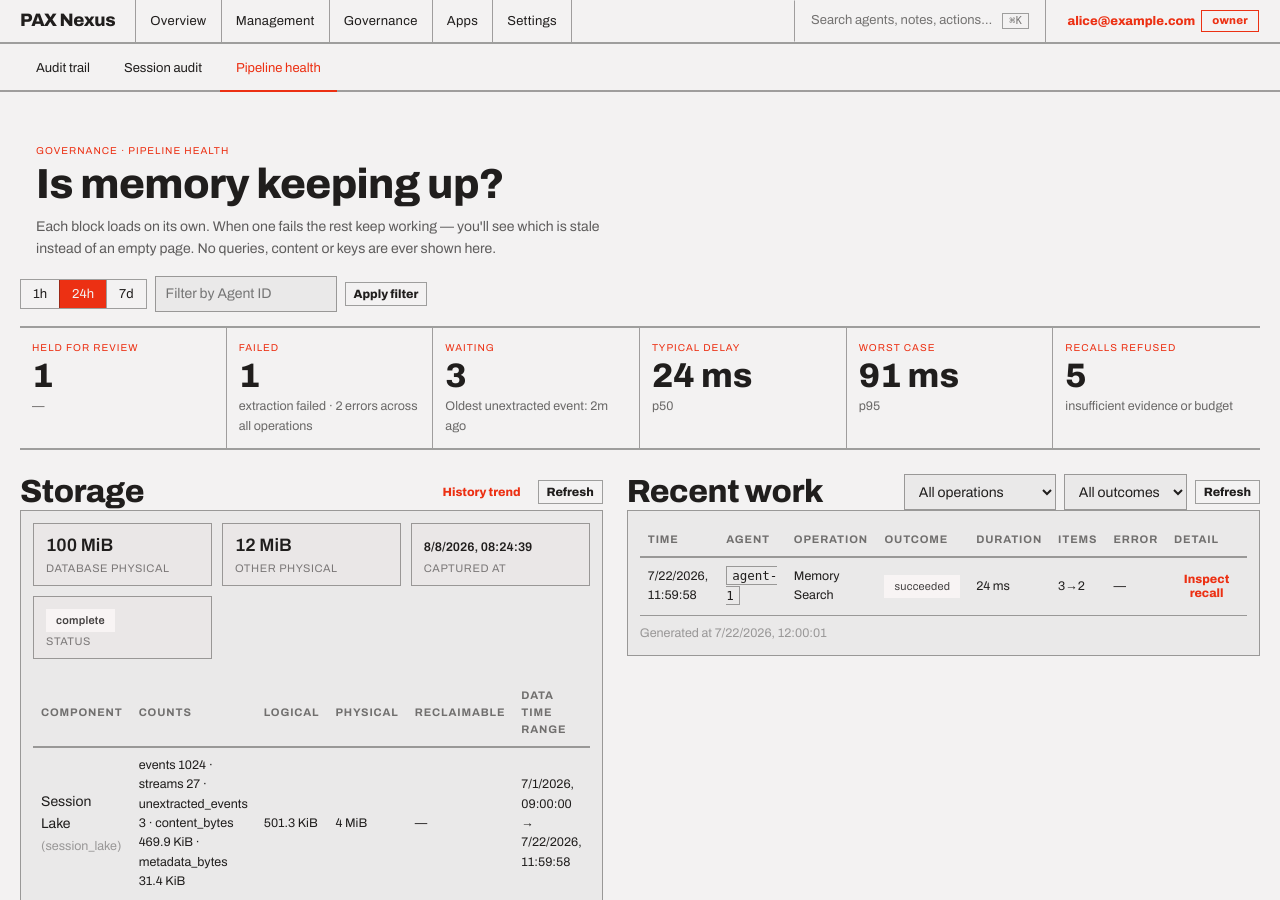
it: section 12 item 12: recall drawer lifecycle for 404, 410 and 500 › 404 recall_diagnostic_not_found is terminal and keeps the activity row
This screenshot has width=1280, height=900.
Expected: the heading "Is memory keeping up?" is shown, [36,161,504,207]
Click the button "Inspect recall" at (1207, 586), box [1174,567,1239,606]
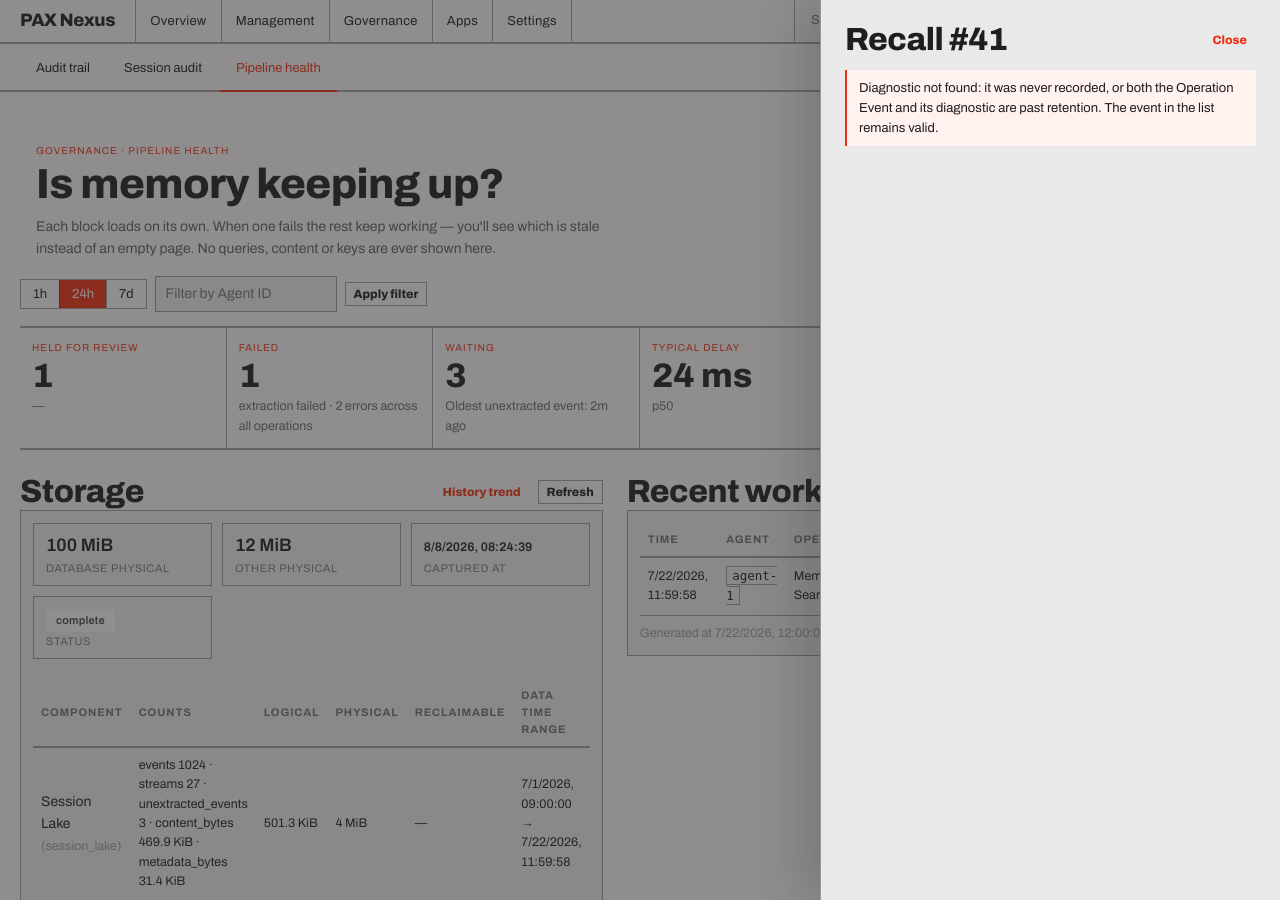
Expected: the text "Diagnostic not found" is shown, [859,81,1234,135]
